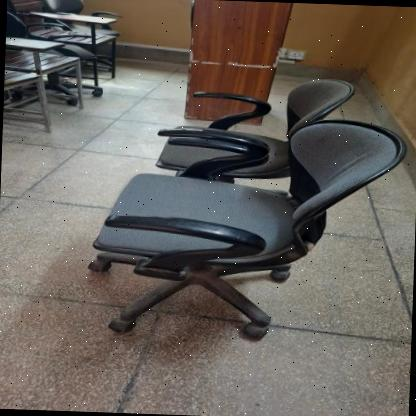chair: (90, 107, 411, 352), (156, 69, 360, 184)
